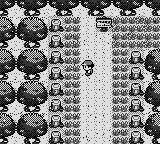captura: (112, 17, 160, 143), (65, 18, 80, 143)
leer: (97, 18, 112, 31)
main: (81, 61, 94, 75)
no-caminable: (1, 0, 160, 143), (48, 16, 64, 144), (129, 49, 145, 144), (145, 49, 160, 144)
